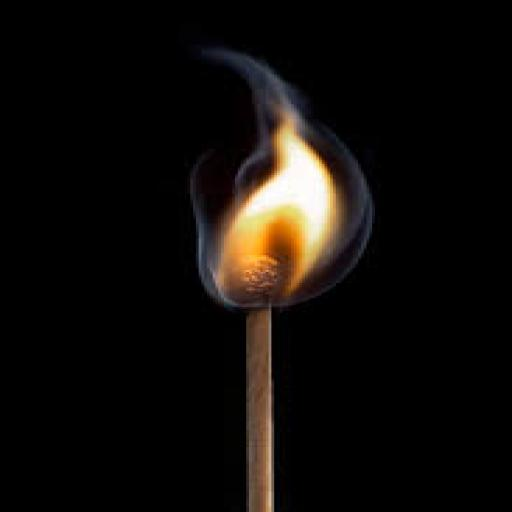fire: (162, 36, 419, 333), (173, 37, 389, 330), (179, 197, 241, 328)
